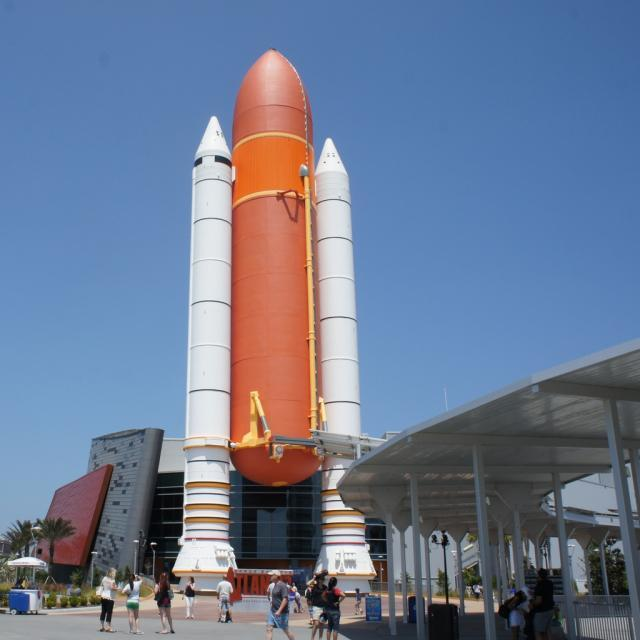missile: (228, 30, 326, 490), (180, 112, 236, 458), (312, 131, 365, 464)
